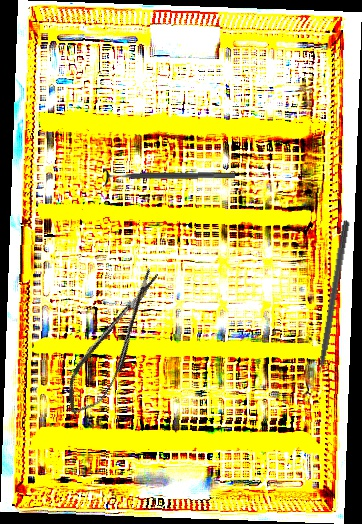Fixation Ring: (102, 164, 236, 189)
Micro Scissor: (54, 263, 175, 423)
Pusher: (310, 219, 351, 396)
